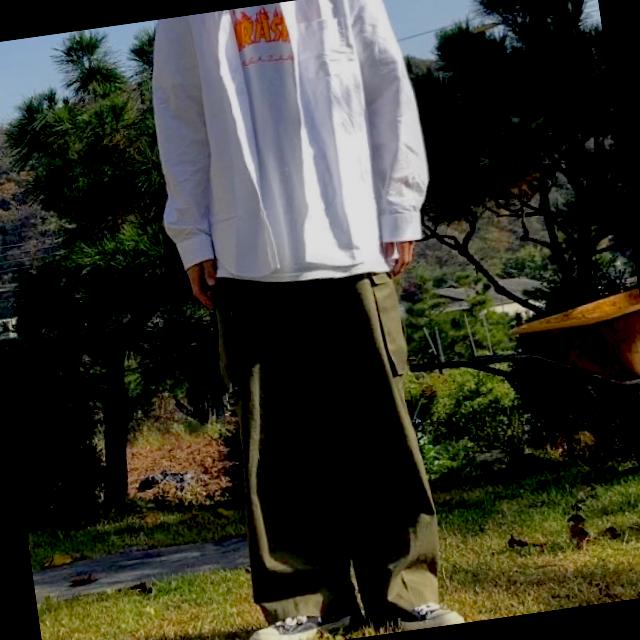cottonpants: (201, 252, 449, 630)
shirt: (135, 0, 439, 289)
